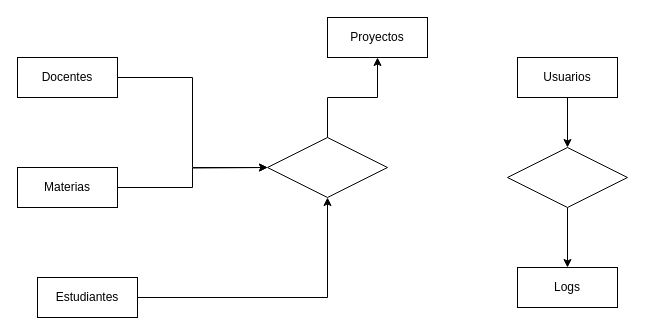
This 645x335 diagram has some shape labels left out. The shapes that lost their labels are listed below. From the top down, each one's centre as x and y in pixels, then its label:
At pixel 327 167: "Esta".
At pixel 567 177: "Genera".
